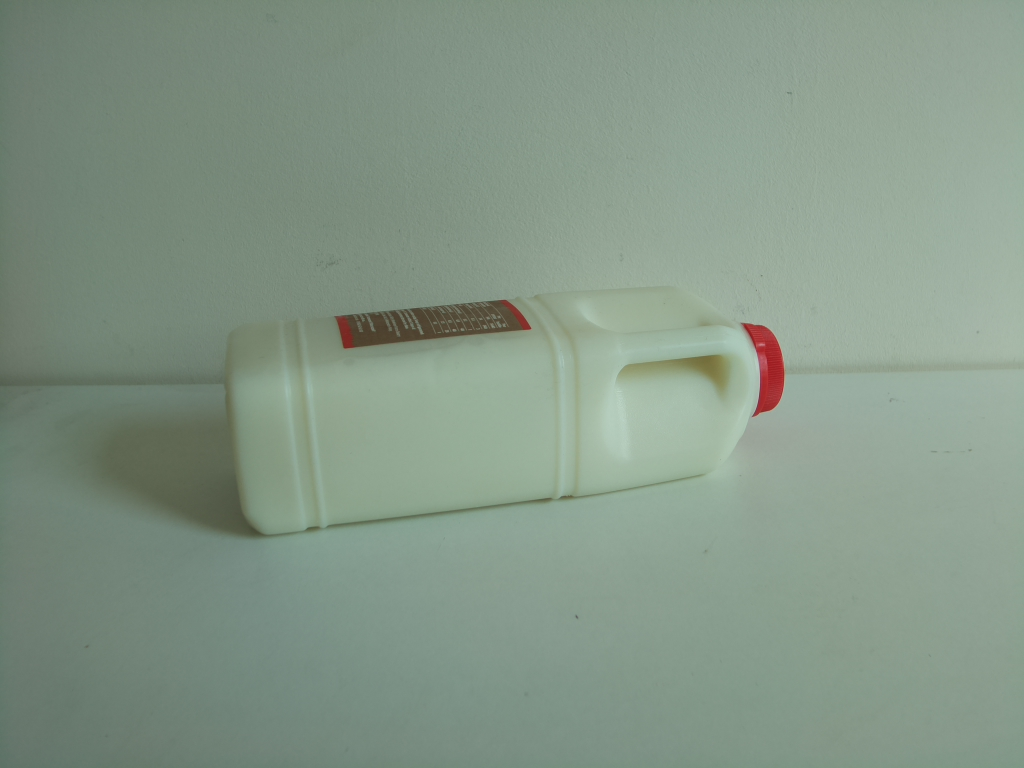milk: (222, 275, 789, 542)
